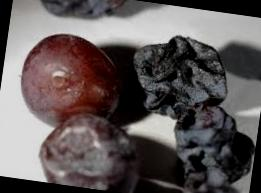Grape Rotten: (113, 27, 261, 193), (13, 27, 128, 135), (34, 106, 142, 193), (26, 0, 126, 24)
